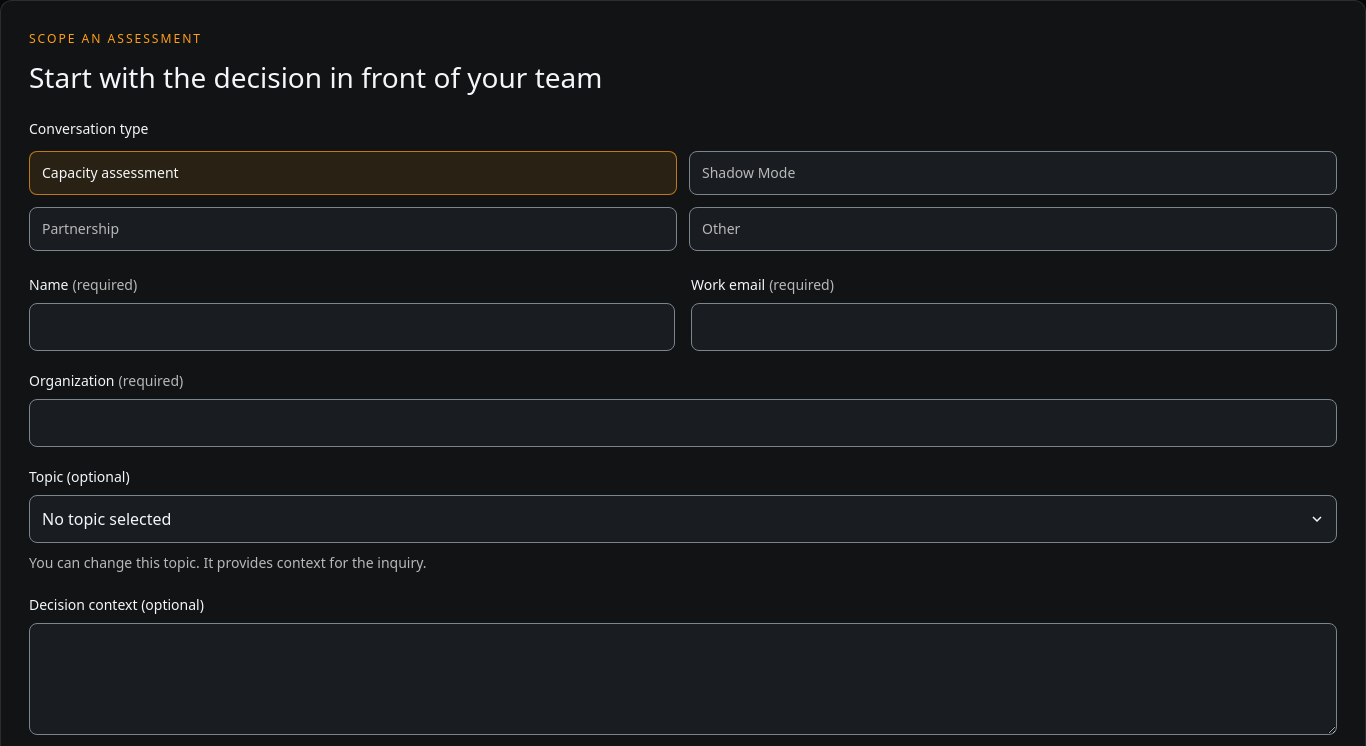
Scenario: truthful contact intake › does not treat an arbitrary successful body as a receipt
In the field labelled "Name": (352, 327) [29,303,675,351], type "Alex Operator"
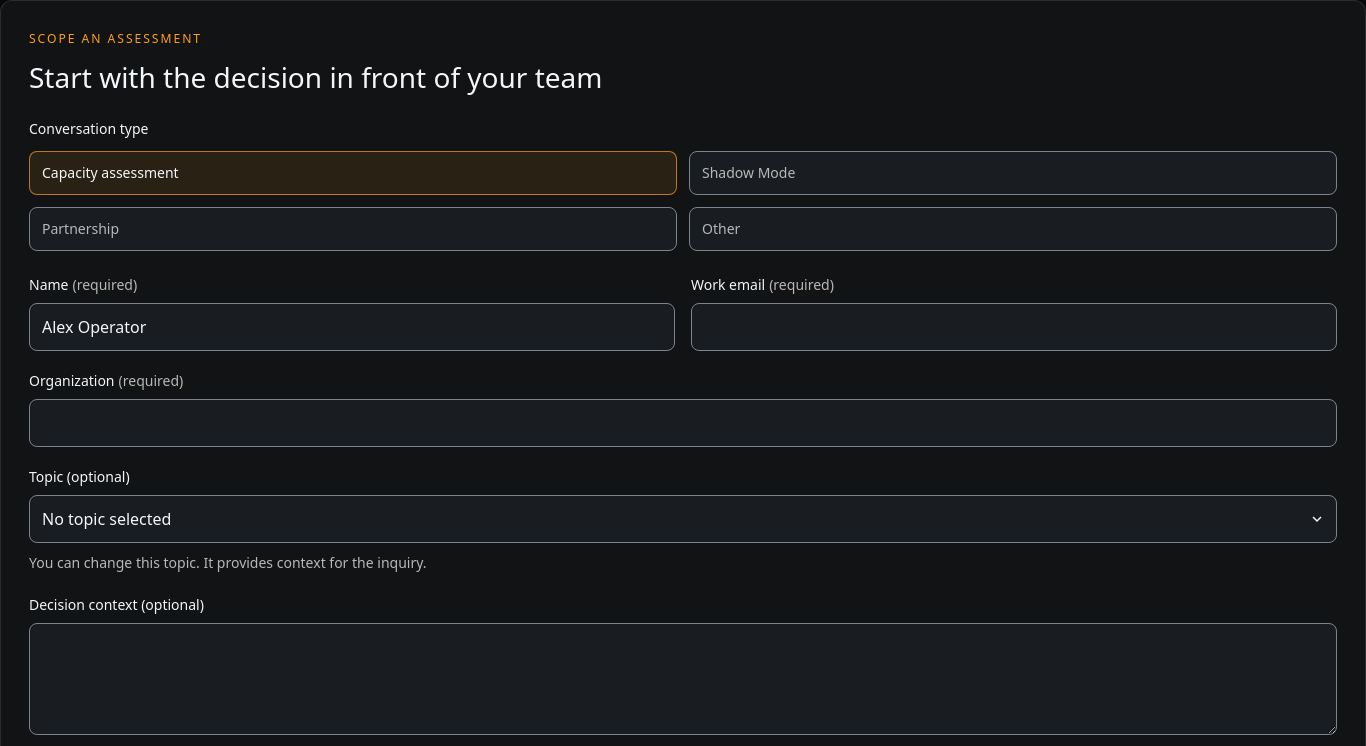
In the field labelled "Work email": (1014, 327) [691,303,1337,351], type "alex@example.com"
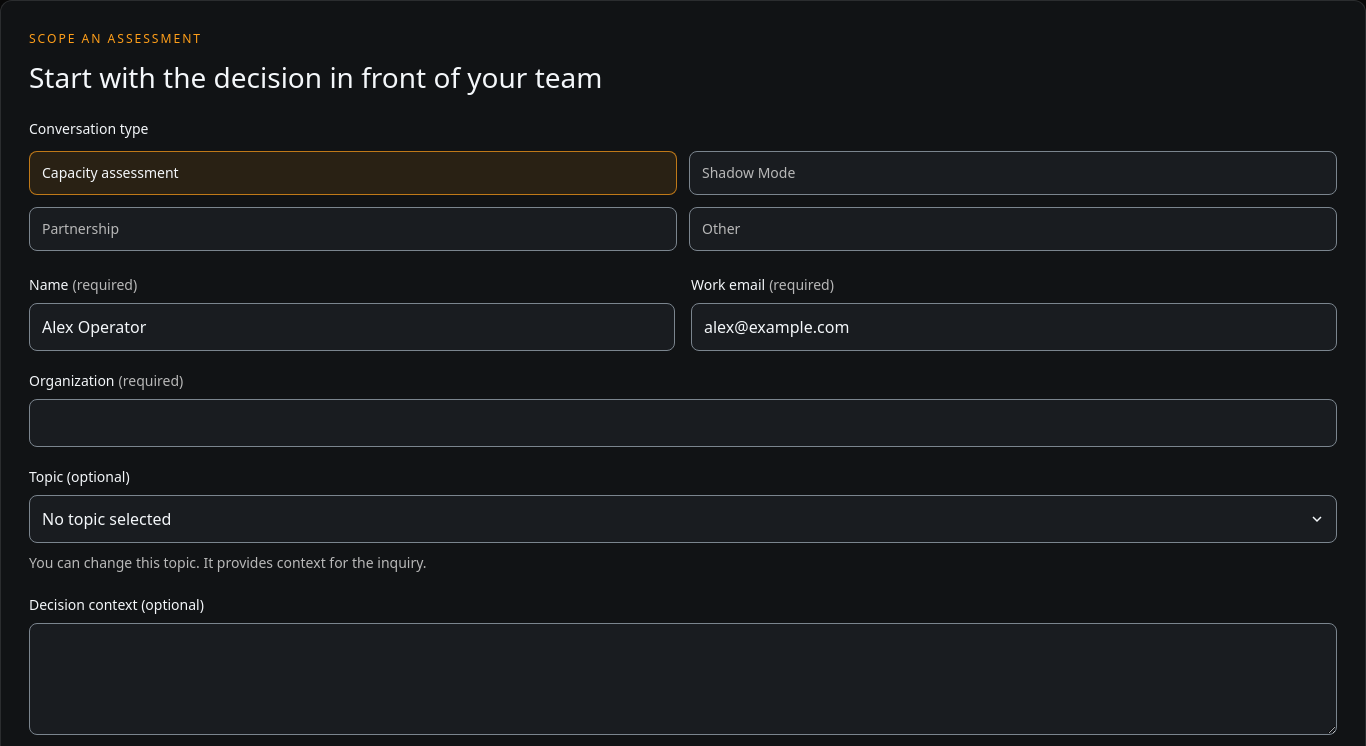
In the field labelled "Organization": (683, 423) [29,399,1337,447], type "Example Compute"
(page scrolled)
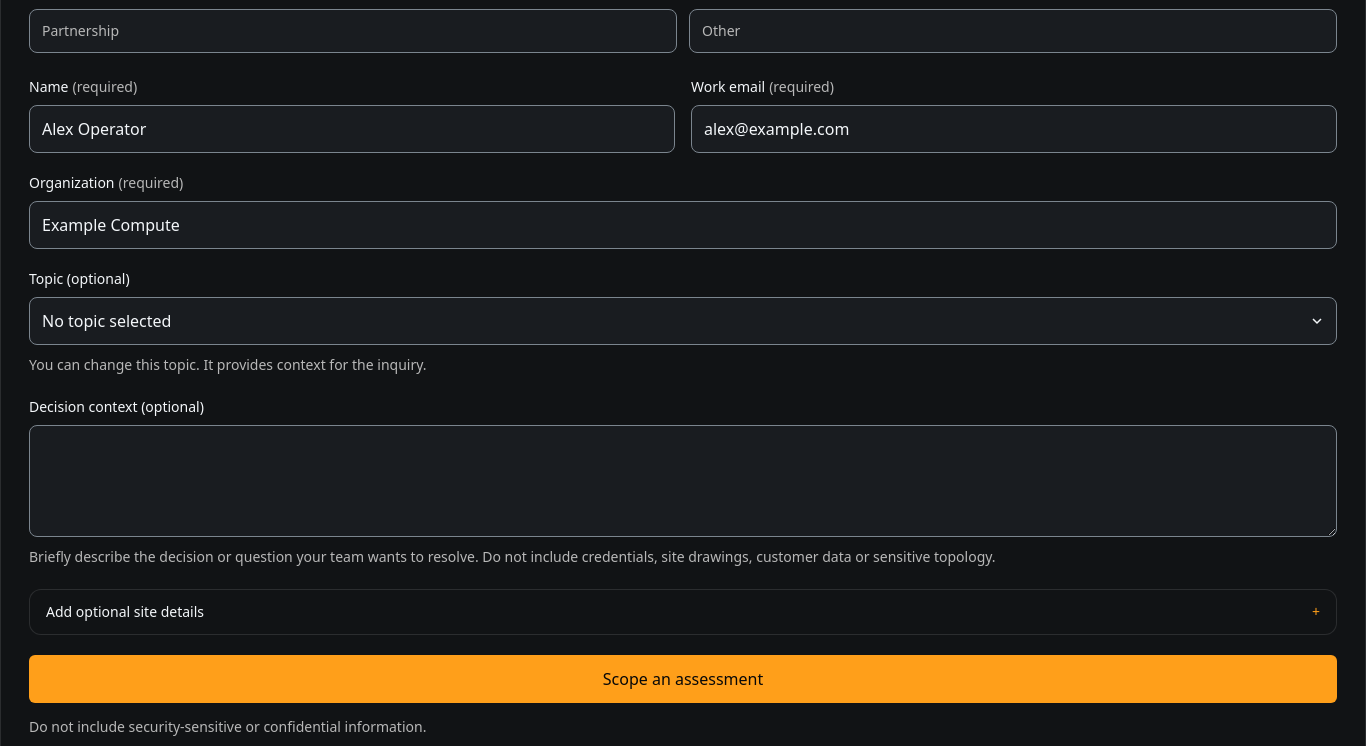
Click the button "Scope an assessment": (683, 679) [29,655,1337,703]
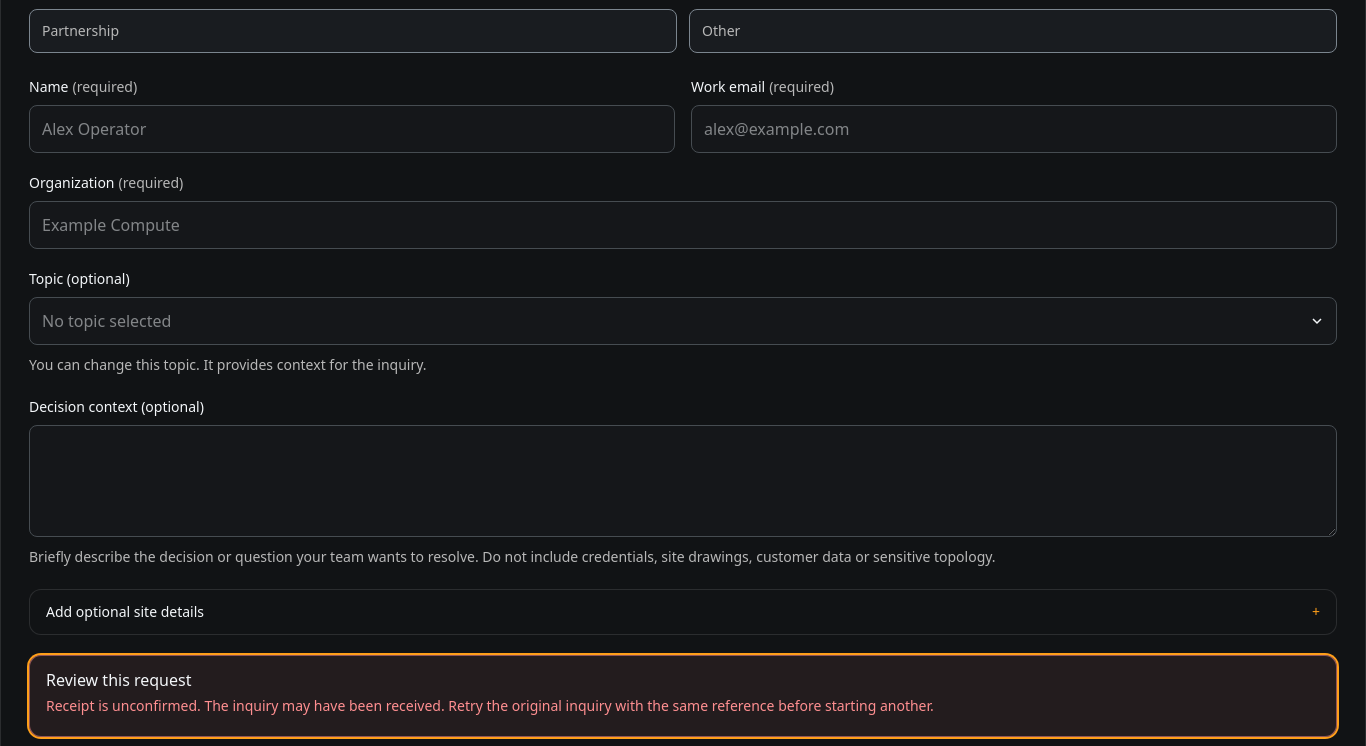
Now the text "Receipt is unconfirmed" is shown, box [46,696,934,715]
